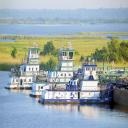tugboat: (39, 57, 115, 109)
